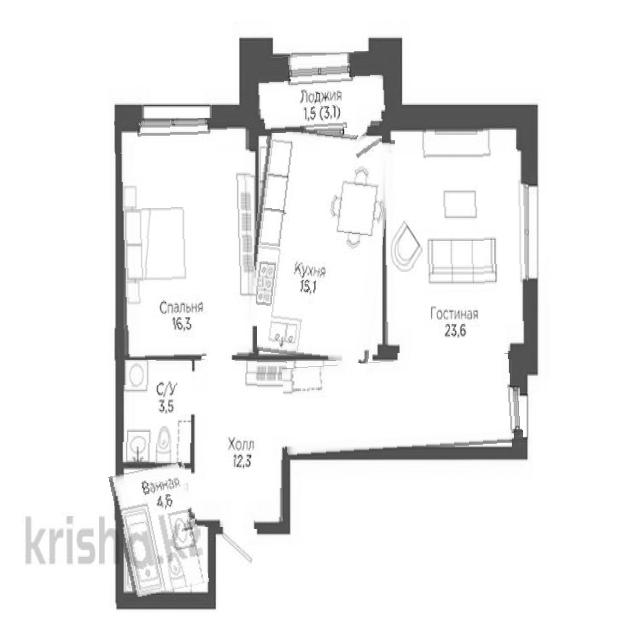balcony: (253, 52, 386, 132)
bathroom: (114, 464, 203, 596), (117, 361, 194, 467)
hallway: (284, 356, 522, 454), (197, 359, 286, 529)
kitchen: (248, 129, 389, 361)
living_room: (383, 118, 528, 352), (116, 118, 255, 358)
